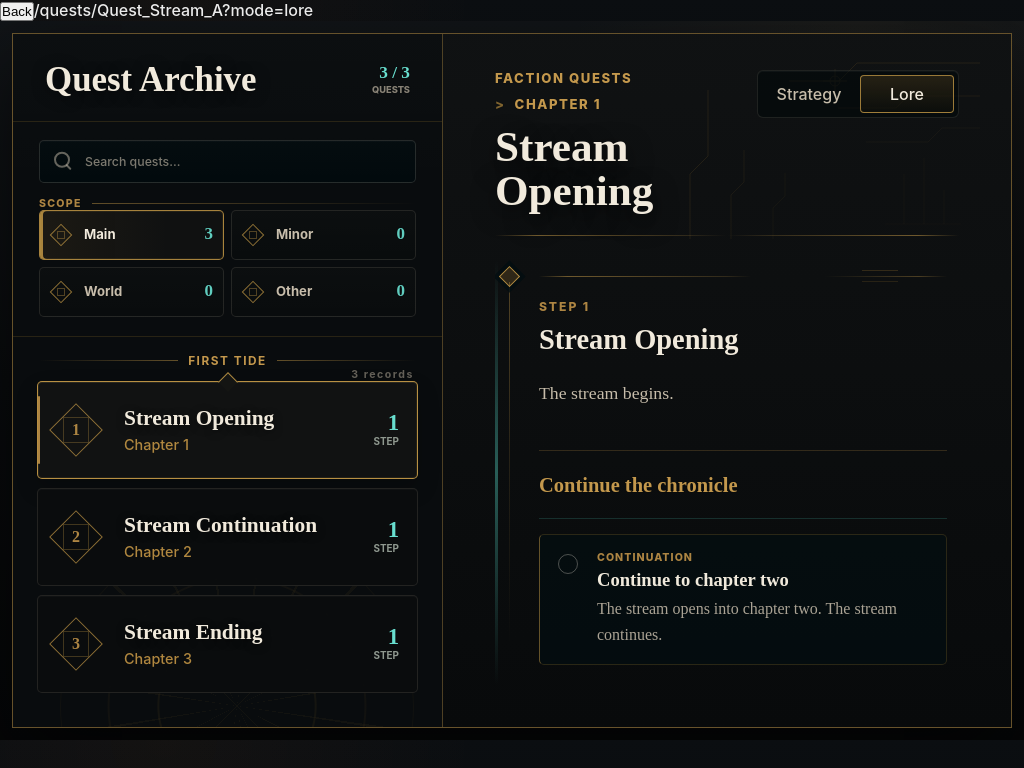
Test: QuestExplorerPage Lore chronicle behavior › restores the canonical entry when browser back leaves a rail navigation
Expected: the heading "Stream Opening" is shown, [495,123,653,214]
Click the button "2 Stream Continuation Chapter 2 1 step" at coordinates (228, 537), box [37,488,418,586]
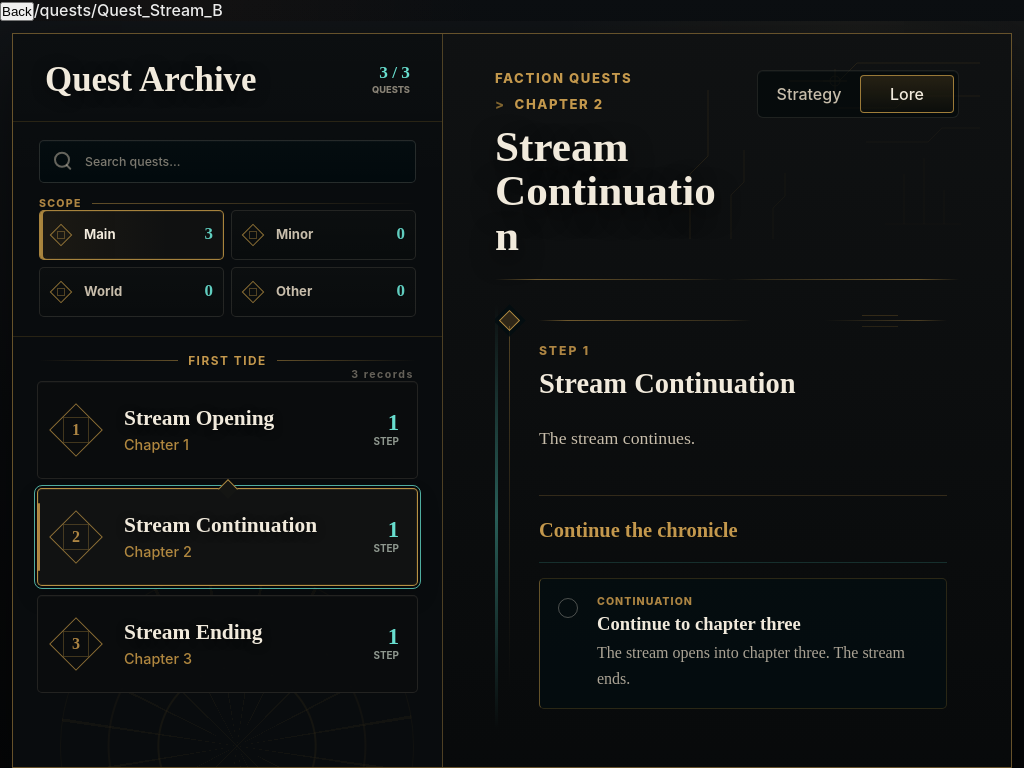
Expected: the text with test id "route-location" reads "/quests/Quest_Stream_B", [34,0,223,20]
Click the button "Back" at coordinates (17, 12), box [0,2,34,21]
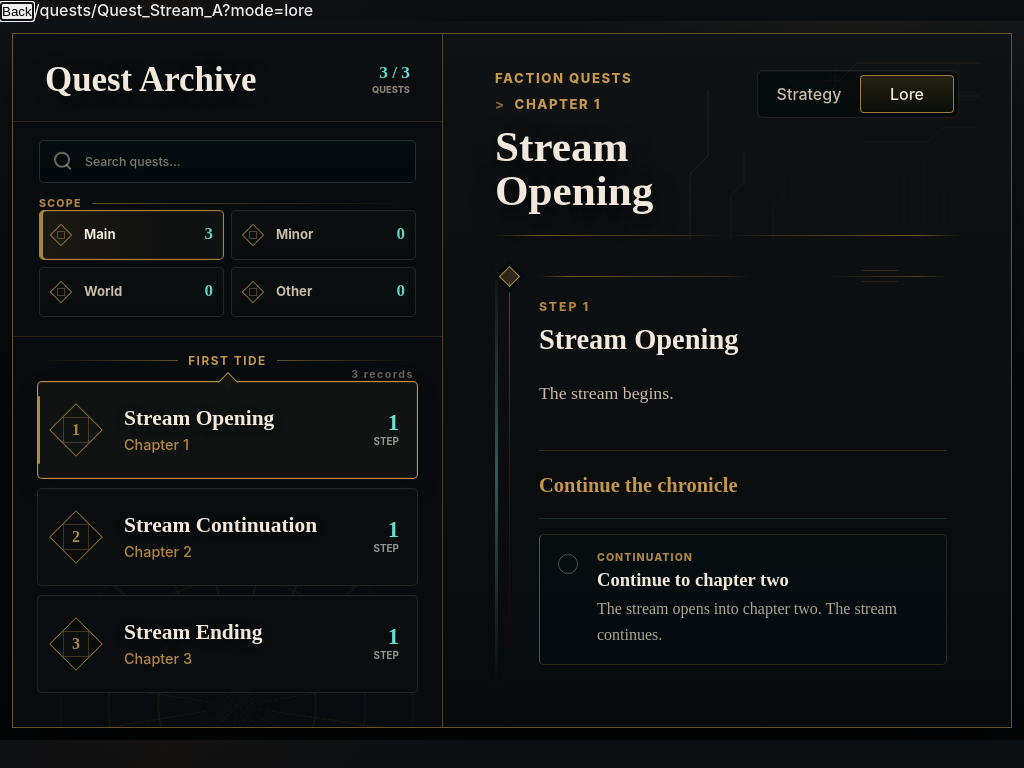
Expected: the text with test id "route-location" reads "/quests/Quest_Stream_A?mode=lore", [34,0,313,20]
Expected: the heading "Stream Opening" is shown, [495,123,653,214]
